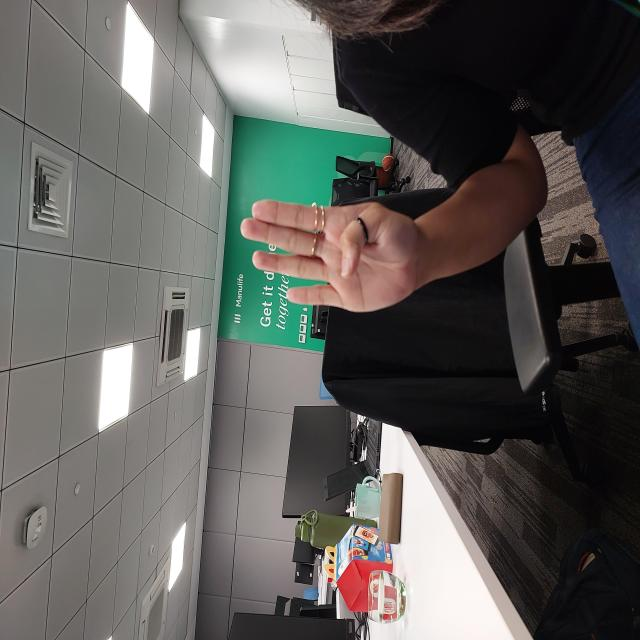B: (326, 240, 443, 421)
